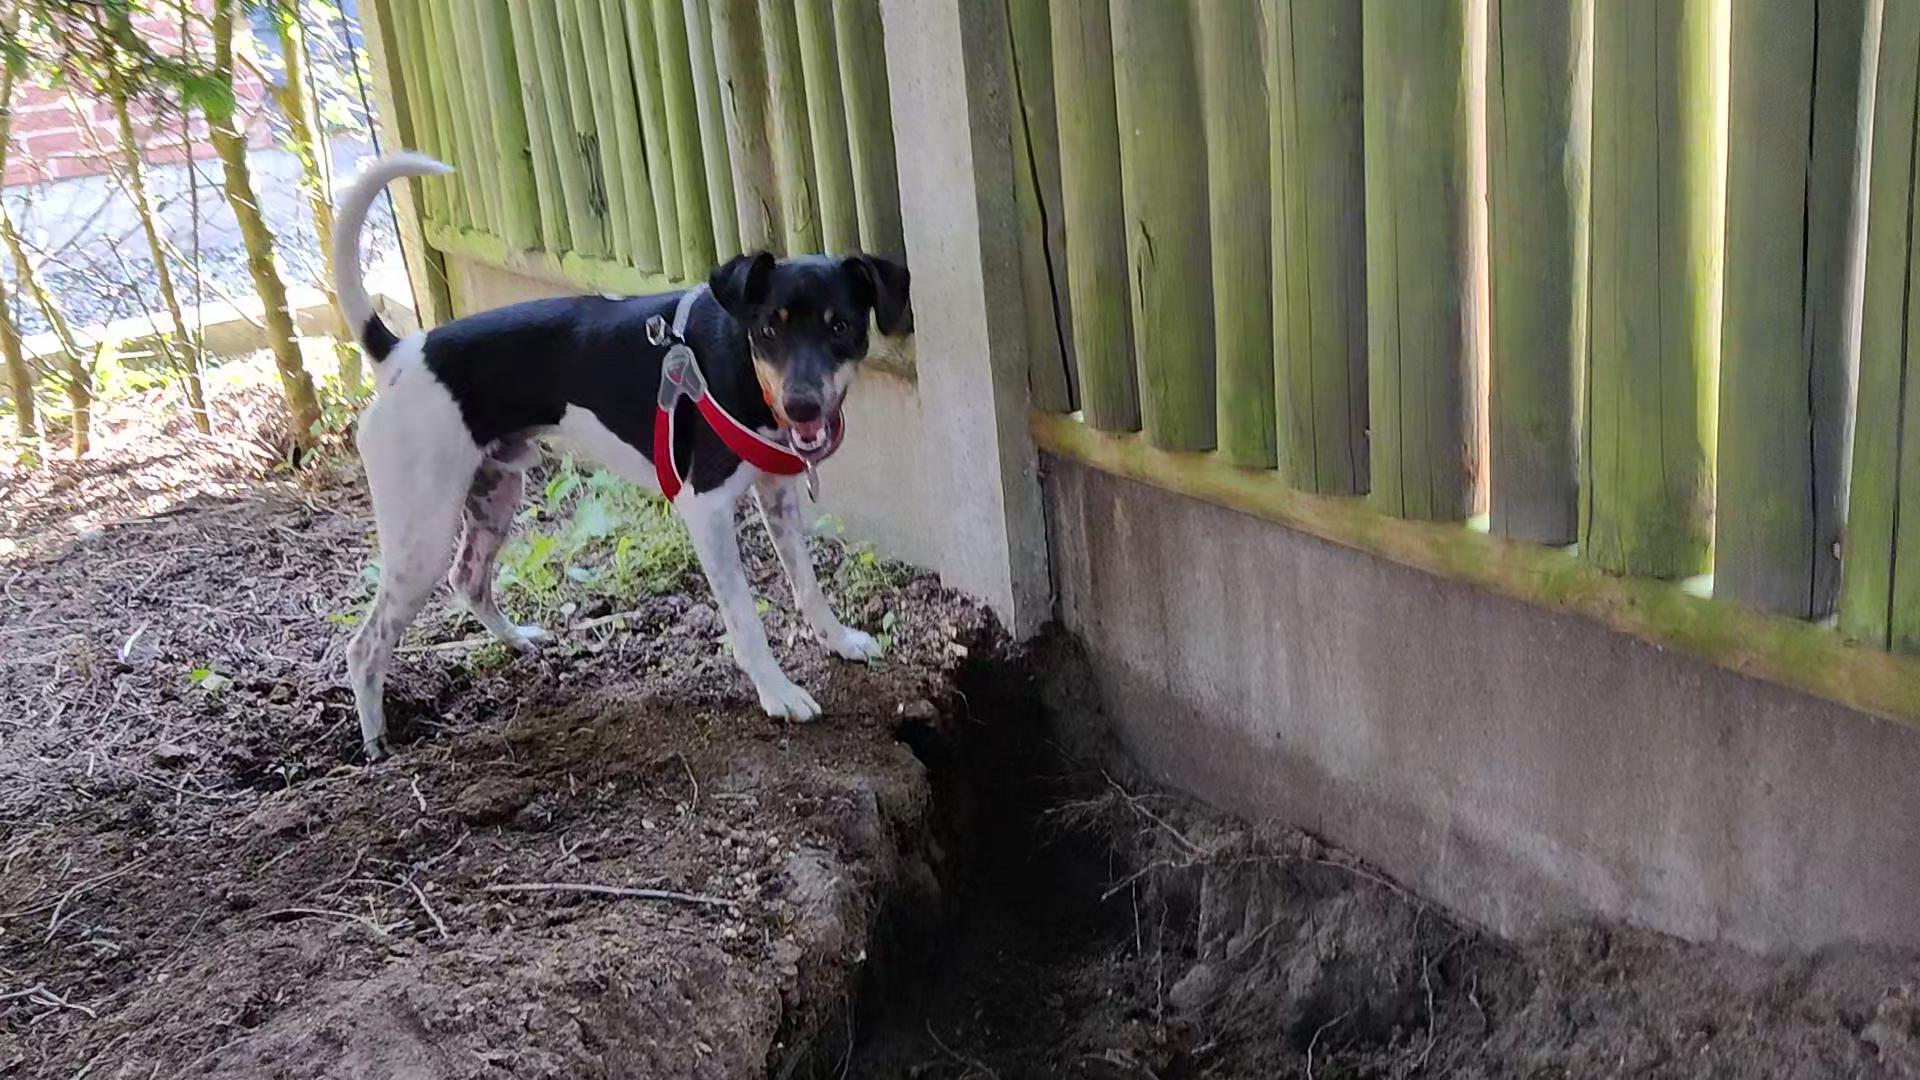Dog: (301, 135, 945, 773)
